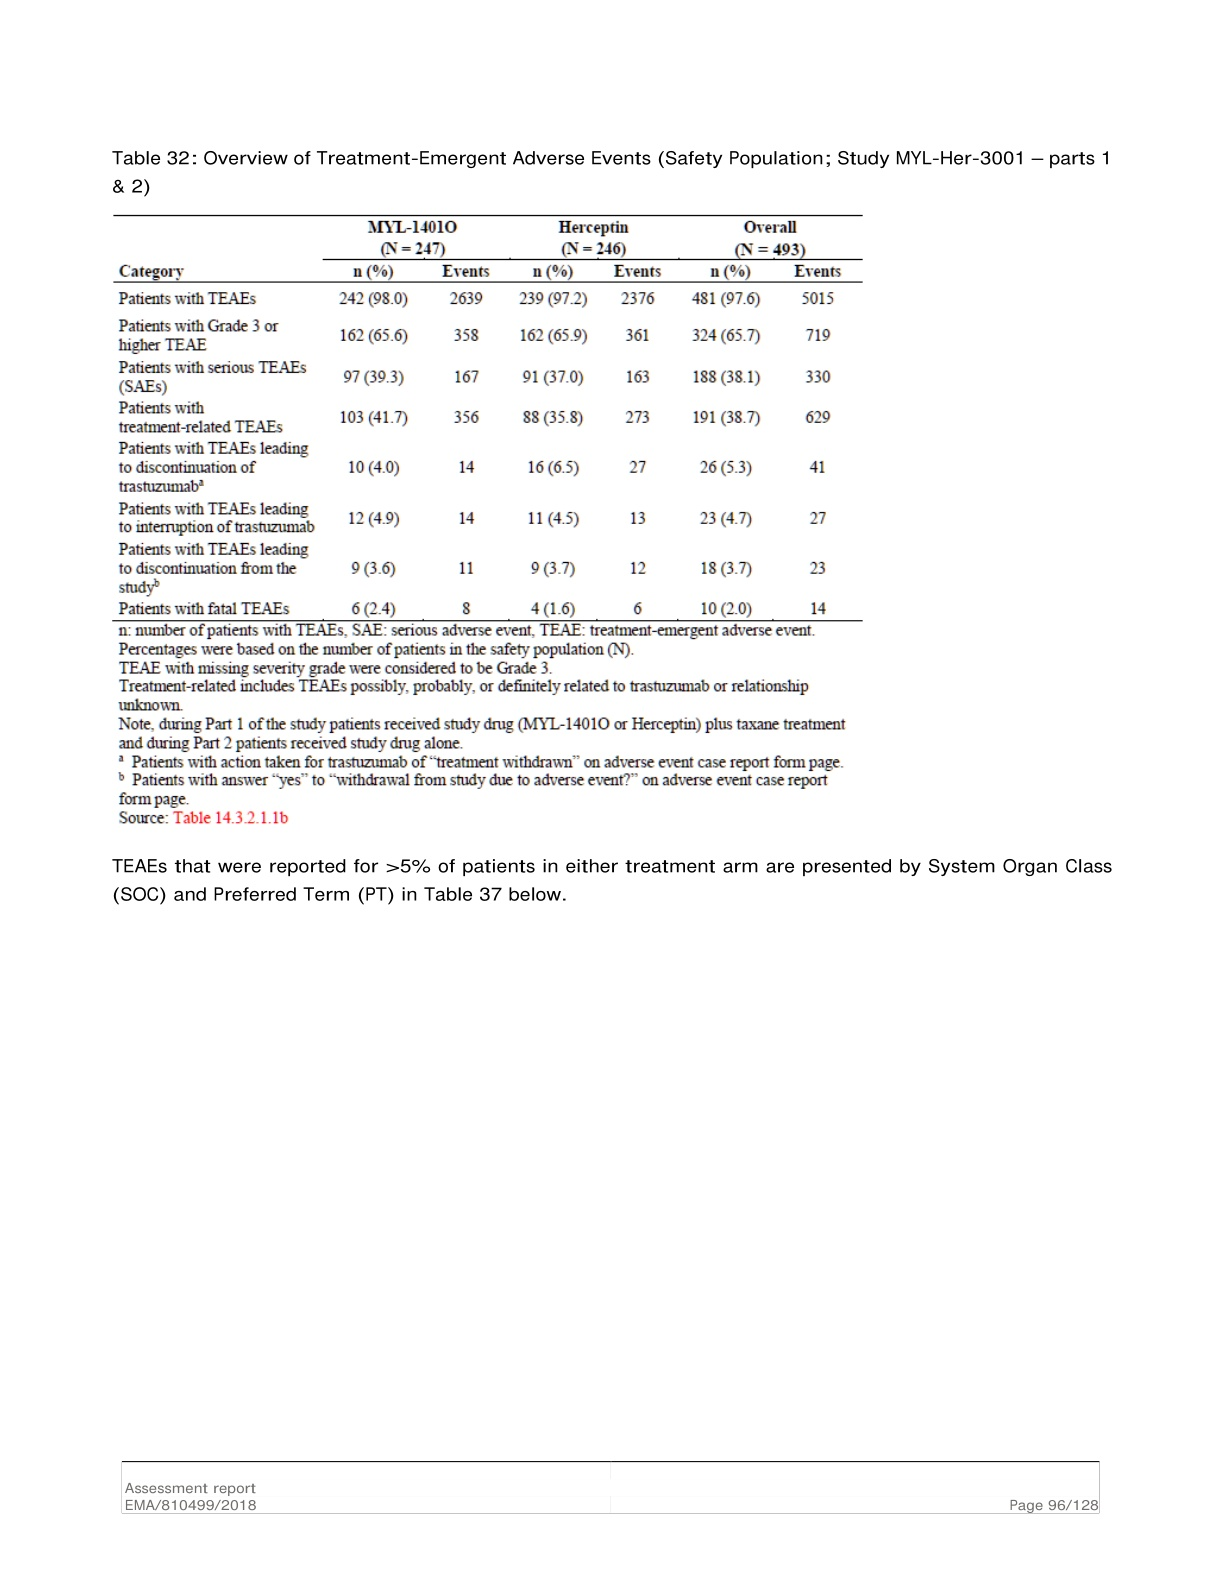partial_lined_merged_cells: (111, 213, 864, 622)
